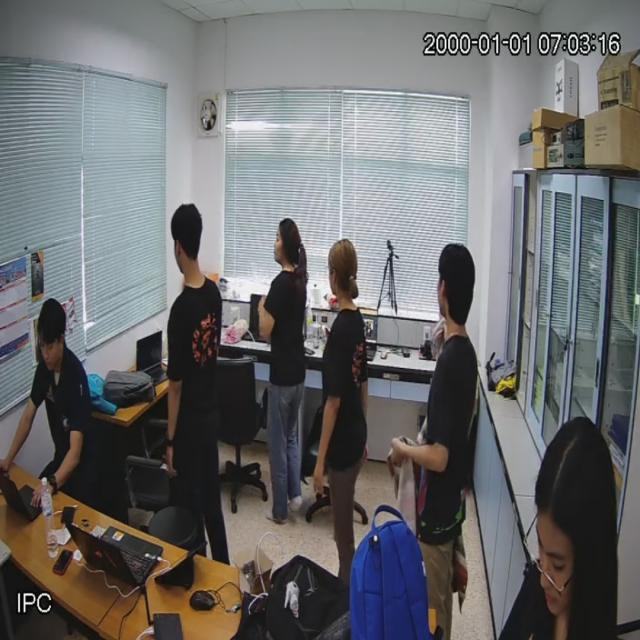normal: (404, 235, 490, 638), (158, 196, 230, 567), (311, 233, 374, 587), (255, 206, 313, 546), (14, 290, 100, 508)
